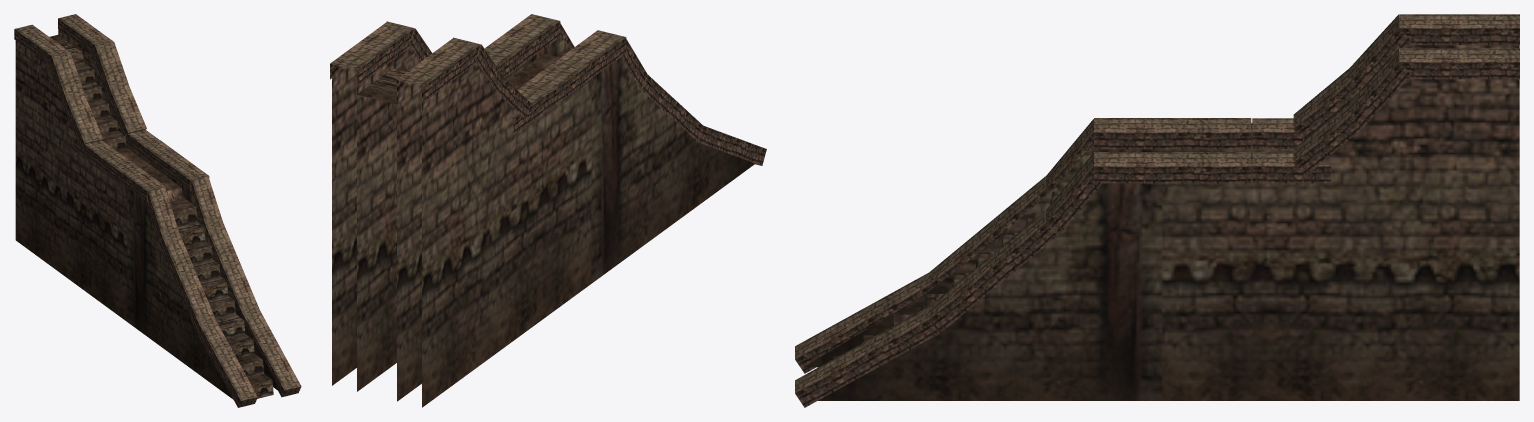
3 renders of one model, left to right at view 1: azimuth 30°, elevation 25°; view 2: azimuth 150°, elevation 25°; view 3: azimuth 270°, elevation 25°, orthographic. The views are drawn at different scales.
Parts seen in each view (by area): view 1: wj13; view 2: wj13; view 3: wj13.
Part boxes in pixels (<box>): wj13: <box>14,14,301,407</box>; wj13: <box>330,14,766,407</box>; wj13: <box>795,14,1519,407</box>.
Size of the model in its own units: 258 by 865 by 1619.
